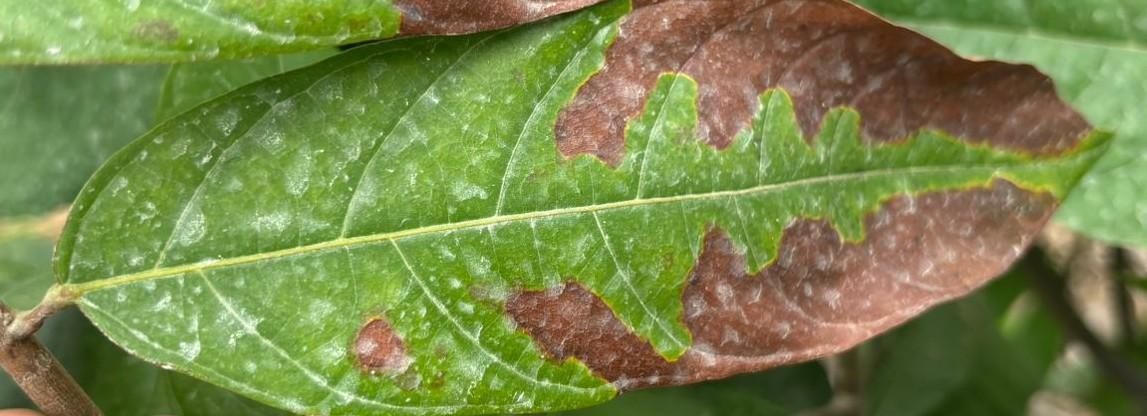deficiencia_potasio: (54, 0, 1111, 414)
